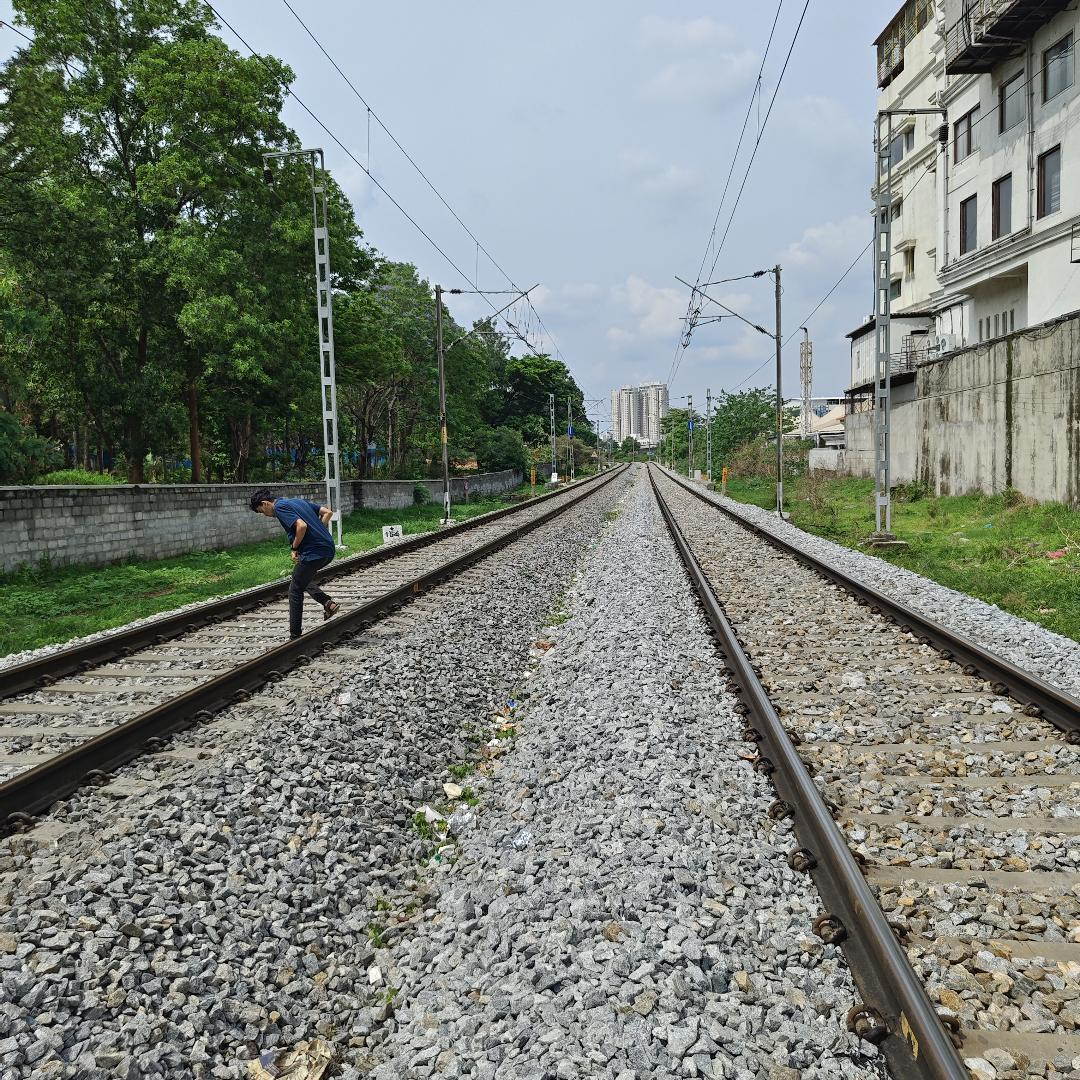standing: (235, 463, 371, 675)
track: (0, 466, 630, 925), (636, 463, 1080, 1080)
